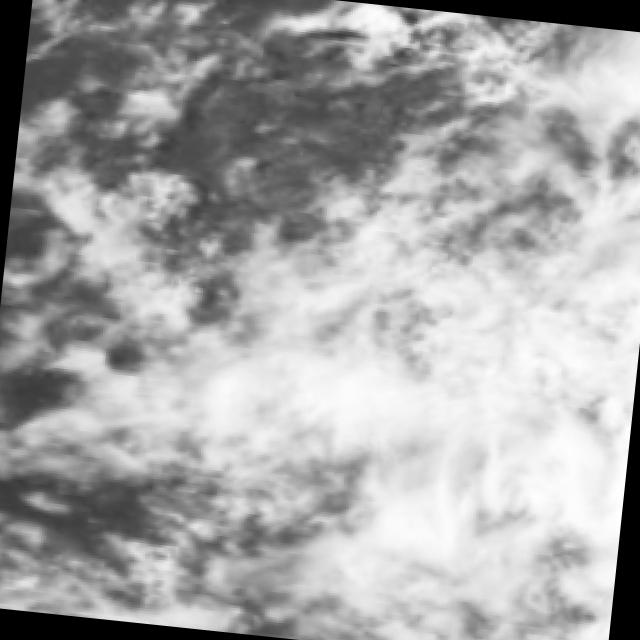CB: (459, 267, 640, 511)
